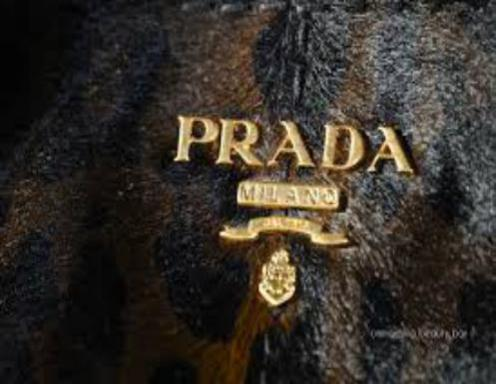PRADA: (170, 104, 418, 179)
